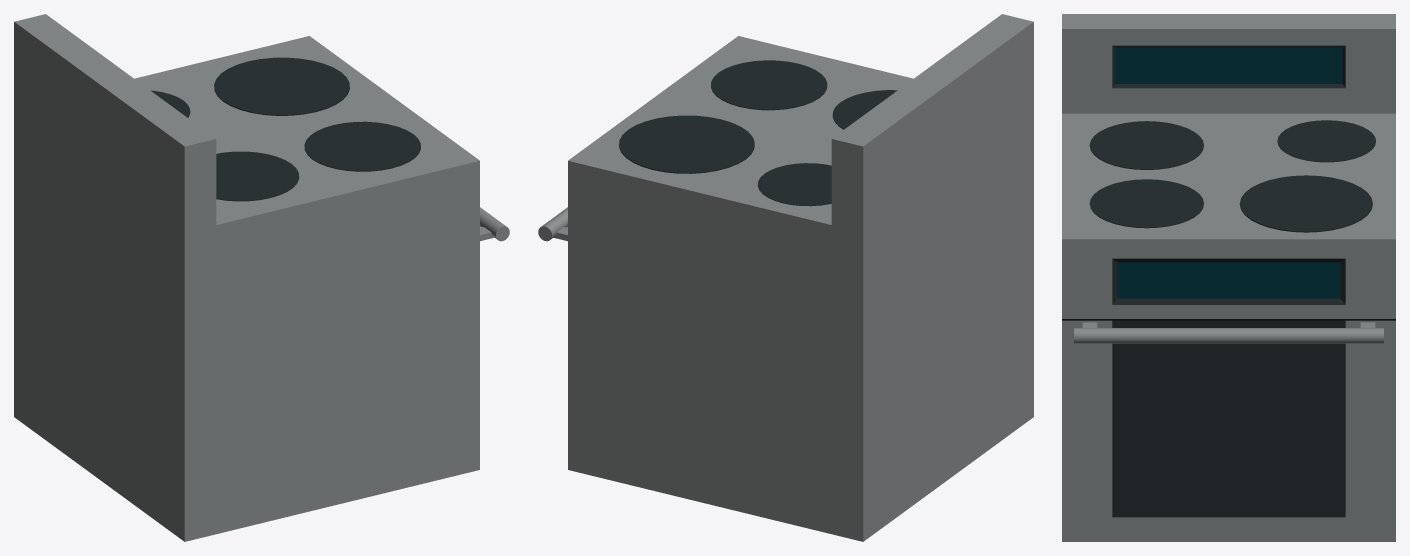
Rendered from OvenClosedV1.fbx.
The picture shows the model from 3 angles, left to right: view 1: azimuth 30°, elevation 25°; view 2: azimuth 150°, elevation 25°; view 3: azimuth 270°, elevation 25°; orthographic projection. The views are drawn at different scales.
Parts seen in each view (by area): view 1: Oven; view 2: Oven; view 3: Oven.
Part boxes in pixels (x1=…): Oven: x1=14, y1=14, x2=509, y2=541; Oven: x1=538, y1=14, x2=1033, y2=541; Oven: x1=1062, y1=14, x2=1395, y2=541.
Bounding box in the file's own units: 515 × 577 × 659.
